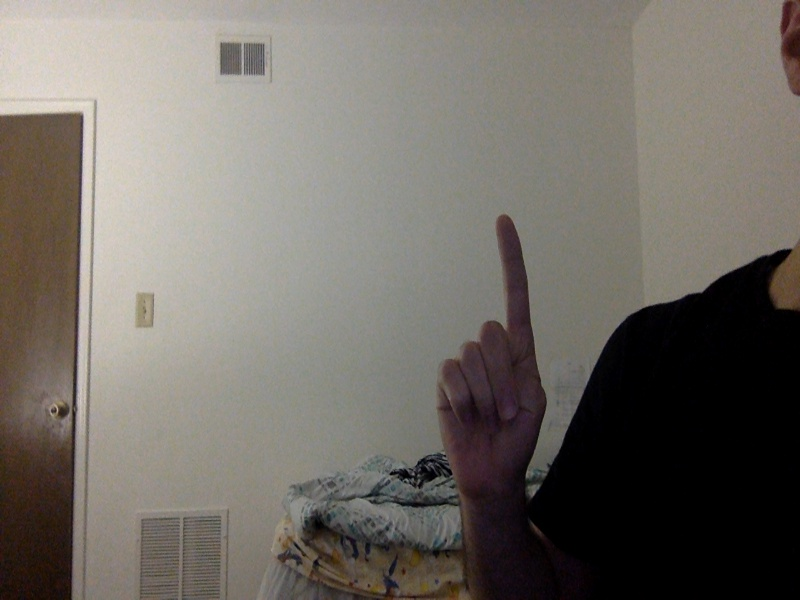1-hand: (435, 214, 547, 497)
